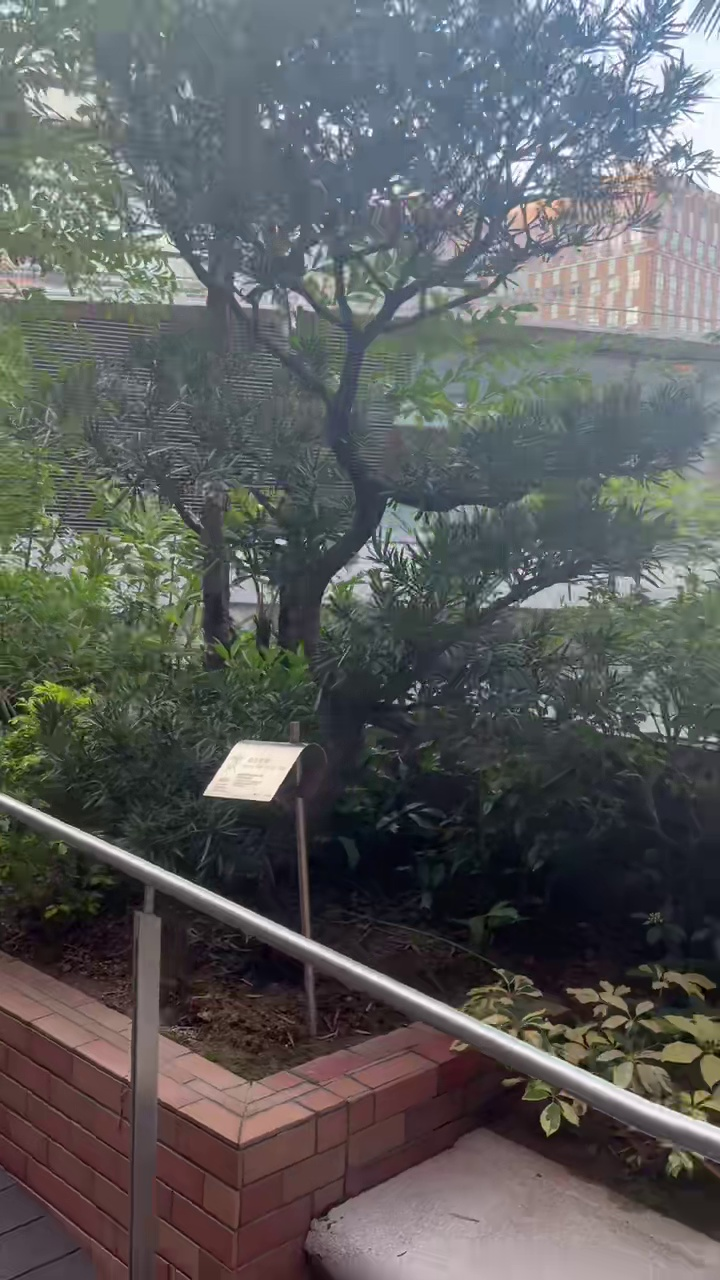Podocarpus macrophyllus: (85, 0, 710, 788)
